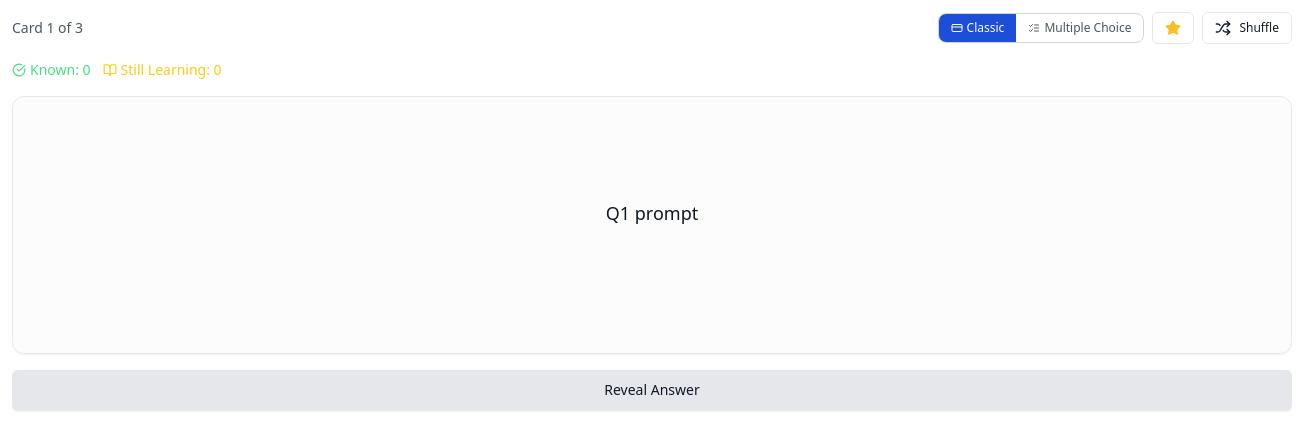
Test: FlashcardViewer shuffle with a parent-owned order › after a local shuffle, rating in a filtered view moves on to a remaining card
The width and height of the screenshot is (1304, 428).
Click the button with aria-label "Shuffle cards and restart session".
click(1247, 28)  # box x1=1202 y1=12 x2=1292 y2=44
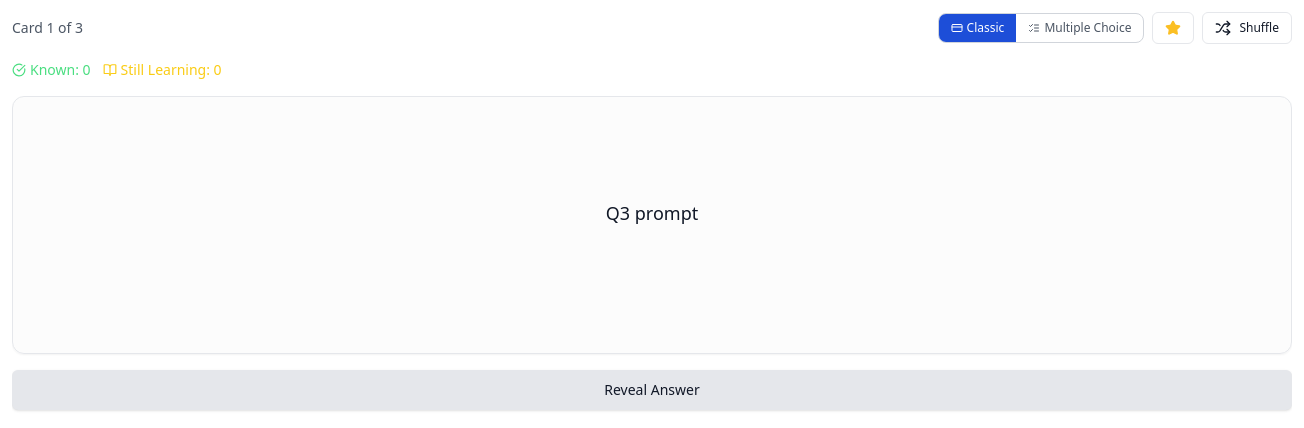
Click the button "Reveal Answer".
click(652, 390)  # box x1=12 y1=370 x2=1292 y2=410
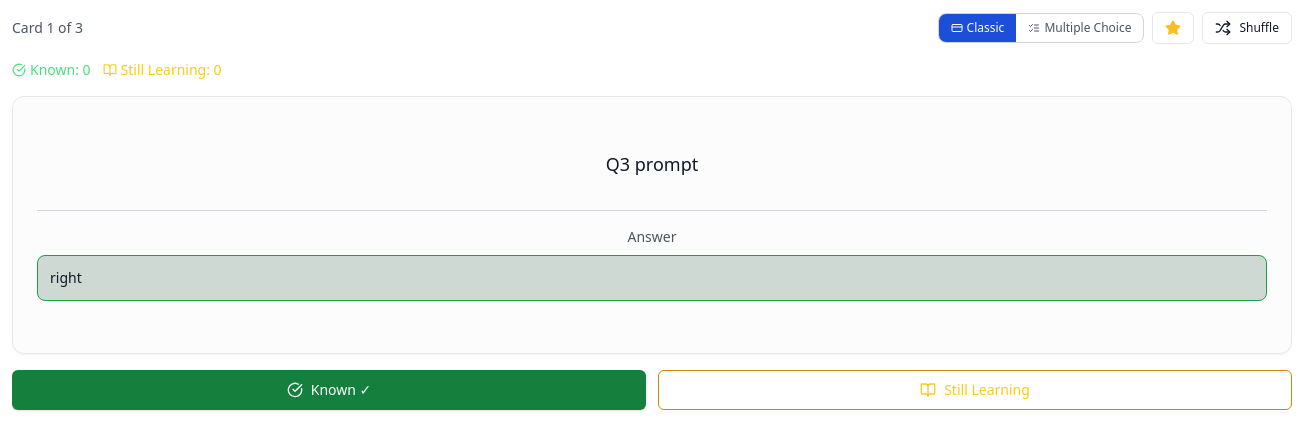
Click the button with aria-label "Mark card as known".
click(329, 390)  # box x1=12 y1=370 x2=646 y2=410
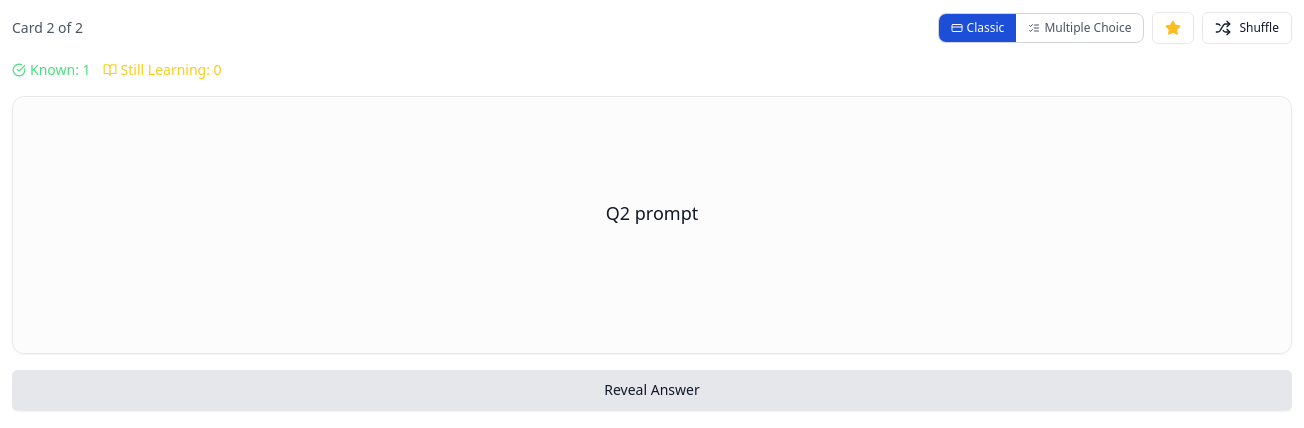
Expected: the text "Card 2 of 2" is shown, x1=12 y1=18 x2=83 y2=38
Expected: the text "Q3 prompt" is gone
